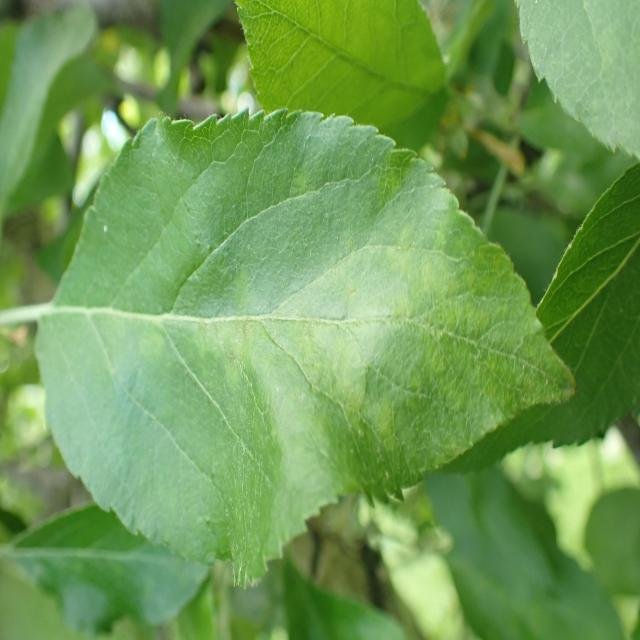scab: (85, 183, 578, 493)
